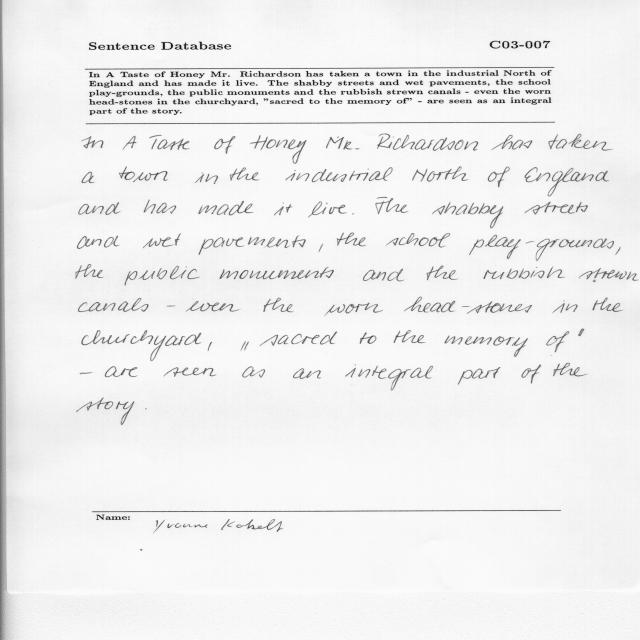word: (469, 235, 614, 261), (82, 330, 201, 361), (525, 167, 609, 197), (345, 365, 433, 391), (404, 297, 532, 314), (199, 235, 306, 255), (432, 202, 504, 228), (445, 335, 528, 357), (377, 134, 478, 151), (250, 135, 307, 164), (286, 167, 393, 182), (125, 266, 200, 285), (219, 267, 334, 279), (548, 134, 612, 151), (260, 332, 337, 346), (484, 266, 565, 279), (79, 298, 149, 312), (386, 233, 450, 248), (412, 167, 468, 182), (579, 268, 639, 282), (199, 201, 254, 215), (524, 202, 588, 214), (77, 398, 130, 412), (119, 167, 168, 182), (458, 367, 501, 384), (325, 303, 383, 315), (308, 202, 347, 218), (149, 135, 190, 150), (492, 135, 533, 150), (186, 301, 240, 312), (143, 233, 181, 248), (376, 197, 409, 214), (79, 202, 121, 215), (78, 236, 120, 249), (164, 367, 216, 377), (144, 199, 177, 214), (363, 269, 404, 281), (547, 332, 570, 353), (427, 266, 459, 281), (592, 297, 623, 312), (488, 167, 510, 188), (553, 364, 587, 377), (326, 137, 359, 150), (264, 298, 294, 312), (394, 330, 426, 343), (76, 264, 103, 279), (215, 136, 236, 154), (230, 168, 259, 181), (337, 233, 366, 246), (522, 365, 541, 384), (105, 366, 137, 377), (553, 300, 578, 313), (121, 402, 135, 425), (293, 368, 321, 379), (195, 172, 218, 184), (242, 367, 265, 378), (83, 136, 104, 148), (274, 203, 292, 216), (360, 332, 377, 344), (123, 136, 136, 150), (82, 172, 95, 183), (241, 341, 249, 351), (579, 329, 585, 336), (616, 247, 621, 255), (208, 342, 212, 351), (319, 244, 323, 252), (80, 373, 93, 375), (167, 306, 175, 307), (352, 214, 354, 215)
